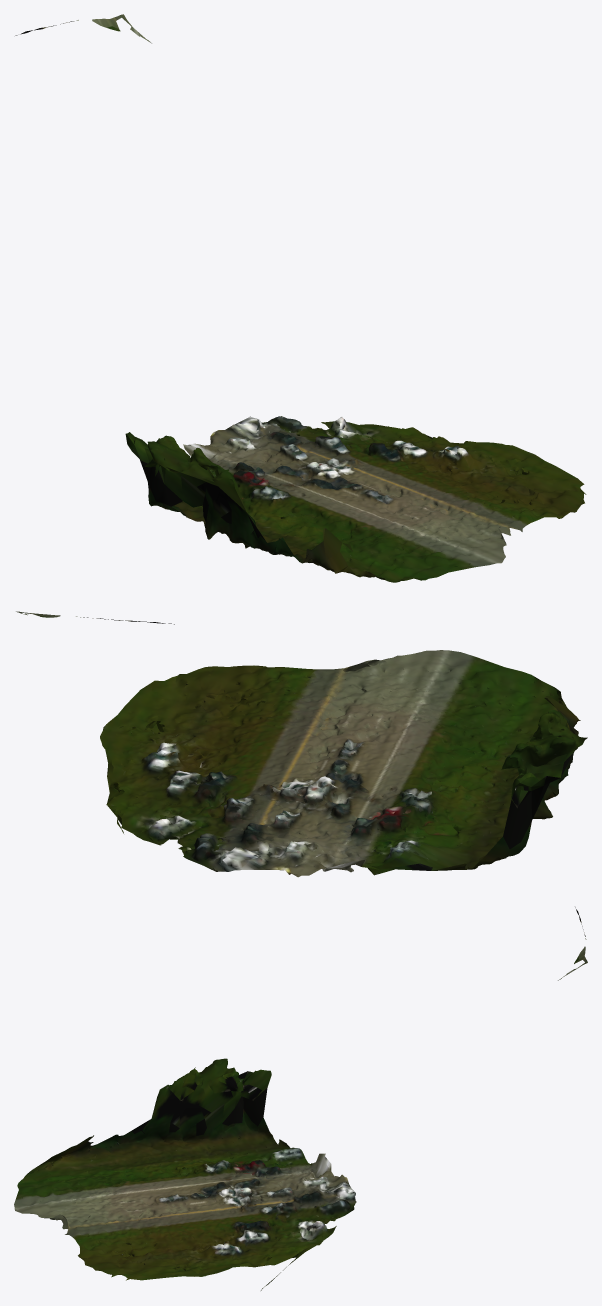
File: robber.glb
The picture shows the model from 3 angles, top to bottom: view 1: azimuth 30°, elevation 25°; view 2: azimuth 150°, elevation 25°; view 3: azimuth 270°, elevation 25°; orthographic projection. The views are drawn at different scales.
Parts seen in each view (by area): view 1: Object_2, Object_3; view 2: Object_2, Object_3; view 3: Object_2, Object_3.
Part boxes in pixels (x1=…): Object_2: x1=15, y1=14, x2=586, y2=581; Object_3: x1=69, y1=20, x2=584, y2=582; Object_2: x1=16, y1=611, x2=580, y2=877; Object_3: x1=22, y1=613, x2=587, y2=874; Object_2: x1=14, y1=907, x2=587, y2=1290; Object_3: x1=24, y1=935, x2=586, y2=1276.
Size of the model in its own units: 7.32 by 6.65 by 11.81.
1 material, 1 textured.
